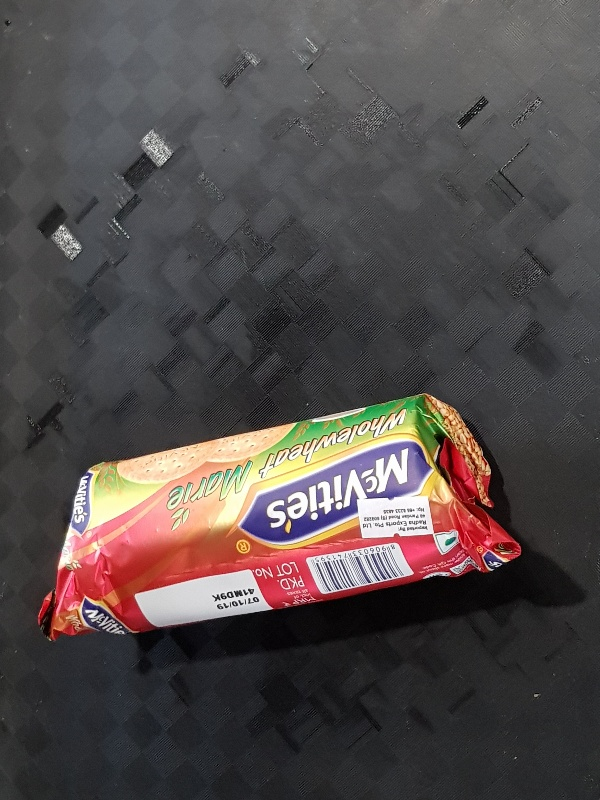McVitie's Wholewheat Marie: (36, 392, 520, 643)
